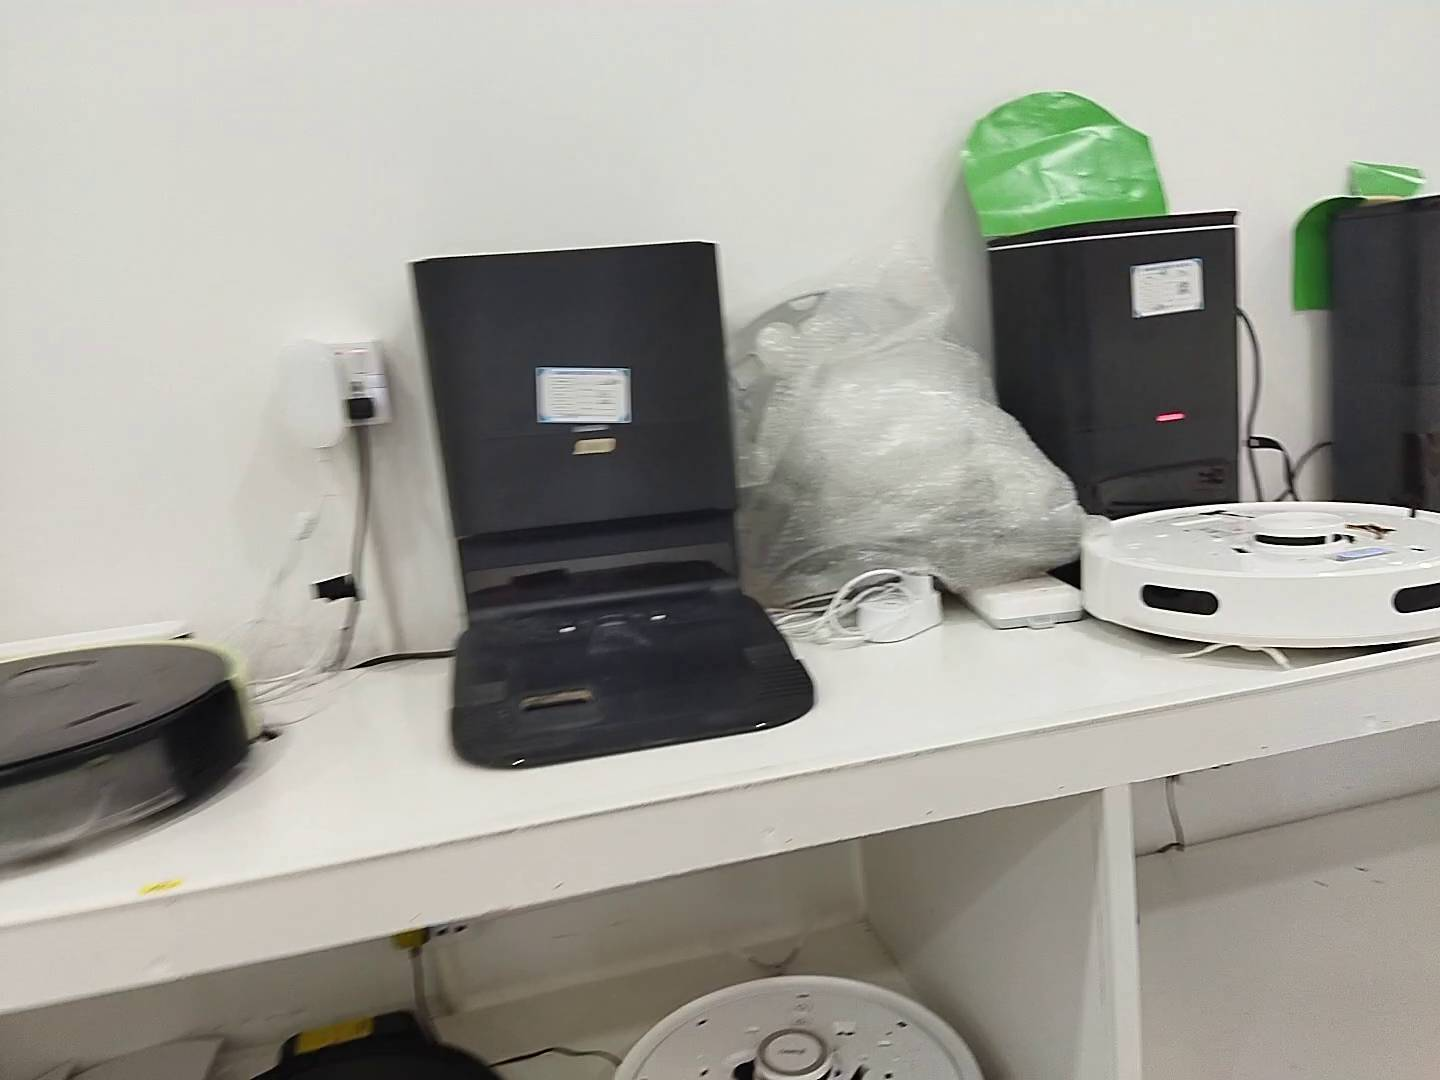dust collecting barrel: (409, 242, 815, 774), (986, 210, 1239, 520), (1330, 192, 1440, 515)
